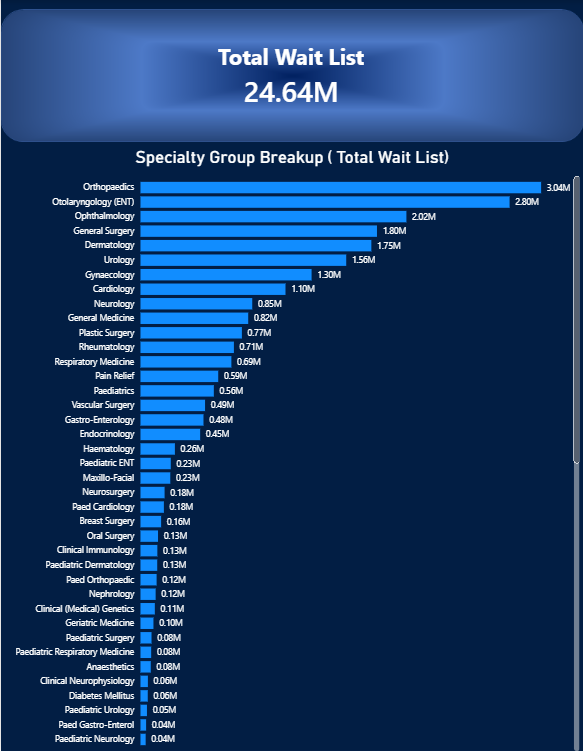

Layout of this report page (visuals, bound fields, positions):
{"tool":"powerbi","page":{"name":"DrillDown","canvas":[816,1056],"ordinal":2},"visuals":[{"type":"barChart","title":"Specialty Group Breakup ( Total Wait List)","fields":{"Category":["Mapping_Specialty.Specialty"],"Y":["Sum(All_Data.Total)"]},"box":[0,205.9,815.1,850.8],"z":0},{"type":"cardVisual","title":"Total Wait List ","fields":{"Data":["All_Data.Total Wait List"]},"box":[191.2,25.2,430.7,159.7],"z":1000}]}

Visuals, with their boxes in screenshot pixels (x1, y1, x2, y2), scaled from the page's 816x1056 canvas onto the 583x751 screenshot:
"Specialty Group Breakup ( Total Wait List)" barChart: region(0, 146, 582, 750)
"Total Wait List " cardVisual: region(137, 18, 444, 131)
